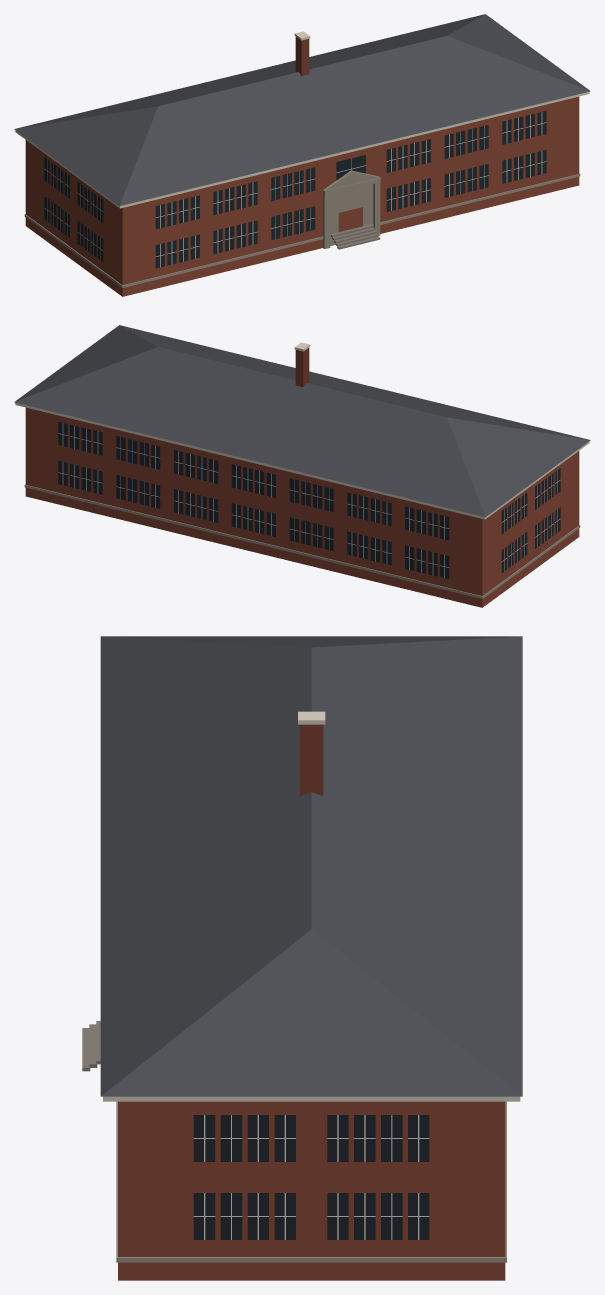
The model's file is parham-school-1961.glb.
The picture shows the model from 3 angles, top to bottom: view 1: azimuth 30°, elevation 25°; view 2: azimuth 150°, elevation 25°; view 3: azimuth 270°, elevation 25°; orthographic projection. The views are drawn at different scales.
Visible parts, largest first — view 1: parham_slate, parham_brick, parham_glass, parham_stone, parham_sash, parham_trim, parham_base, parham_brick2; view 2: parham_slate, parham_brick, parham_glass, parham_sash, parham_stone, parham_trim, parham_brick2; view 3: parham_slate, parham_brick, parham_glass, parham_stone, parham_trim, parham_brick2, parham_sash, parham_base.
Part boxes in pixels (left/top/right/bottom): parham_slate: left=14, top=14, right=590, bottom=206; parham_brick: left=25, top=96, right=579, bottom=296; parham_glass: left=44, top=111, right=546, bottom=268; parham_stone: left=24, top=170, right=580, bottom=287; parham_sash: left=44, top=112, right=546, bottom=267; parham_trim: left=15, top=31, right=589, bottom=208; parham_base: left=330, top=224, right=380, bottom=249; parham_brick2: left=295, top=37, right=309, bottom=76; parham_slate: left=14, top=325, right=590, bottom=517; parham_brick: left=25, top=407, right=579, bottom=607; parham_glass: left=58, top=422, right=560, bottom=579; parham_sash: left=58, top=423, right=560, bottom=578; parham_stone: left=24, top=484, right=580, bottom=598; parham_trim: left=15, top=342, right=589, bottom=519; parham_brick2: left=295, top=348, right=309, bottom=387; parham_slate: left=100, top=636, right=522, bottom=1096; parham_brick: left=118, top=1101, right=505, bottom=1280; parham_glass: left=193, top=1115, right=429, bottom=1239; parham_stone: left=116, top=1101, right=506, bottom=1262; parham_trim: left=103, top=711, right=520, bottom=1101; parham_brick2: left=299, top=724, right=323, bottom=796; parham_sash: left=193, top=1115, right=429, bottom=1239; parham_base: left=82, top=1021, right=100, bottom=1071.
Size of the model in its own units: 50.6 by 17.52 by 20.45.
